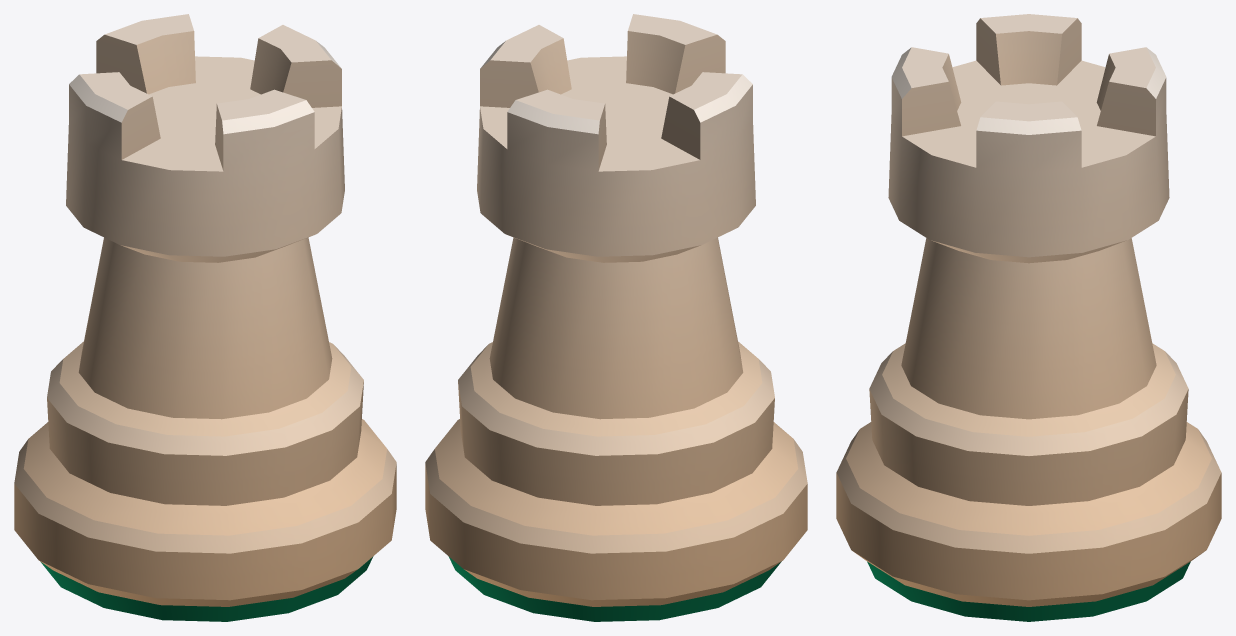
File: chess_white_rook.gltf
The picture shows the model from 3 angles, left to right: view 1: azimuth 30°, elevation 25°; view 2: azimuth 150°, elevation 25°; view 3: azimuth 270°, elevation 25°; orthographic projection.
Visible parts, largest first — view 1: chess_white_rook; view 2: chess_white_rook; view 3: chess_white_rook.
Boxes of the visible parts, box(x1,y1,x2,y2) form: chess_white_rook: box(14, 14, 396, 621); chess_white_rook: box(425, 14, 807, 621); chess_white_rook: box(836, 14, 1221, 621).
Size of the model in its own units: 0.75 by 1.04 by 0.75.
1 material, 1 textured.
